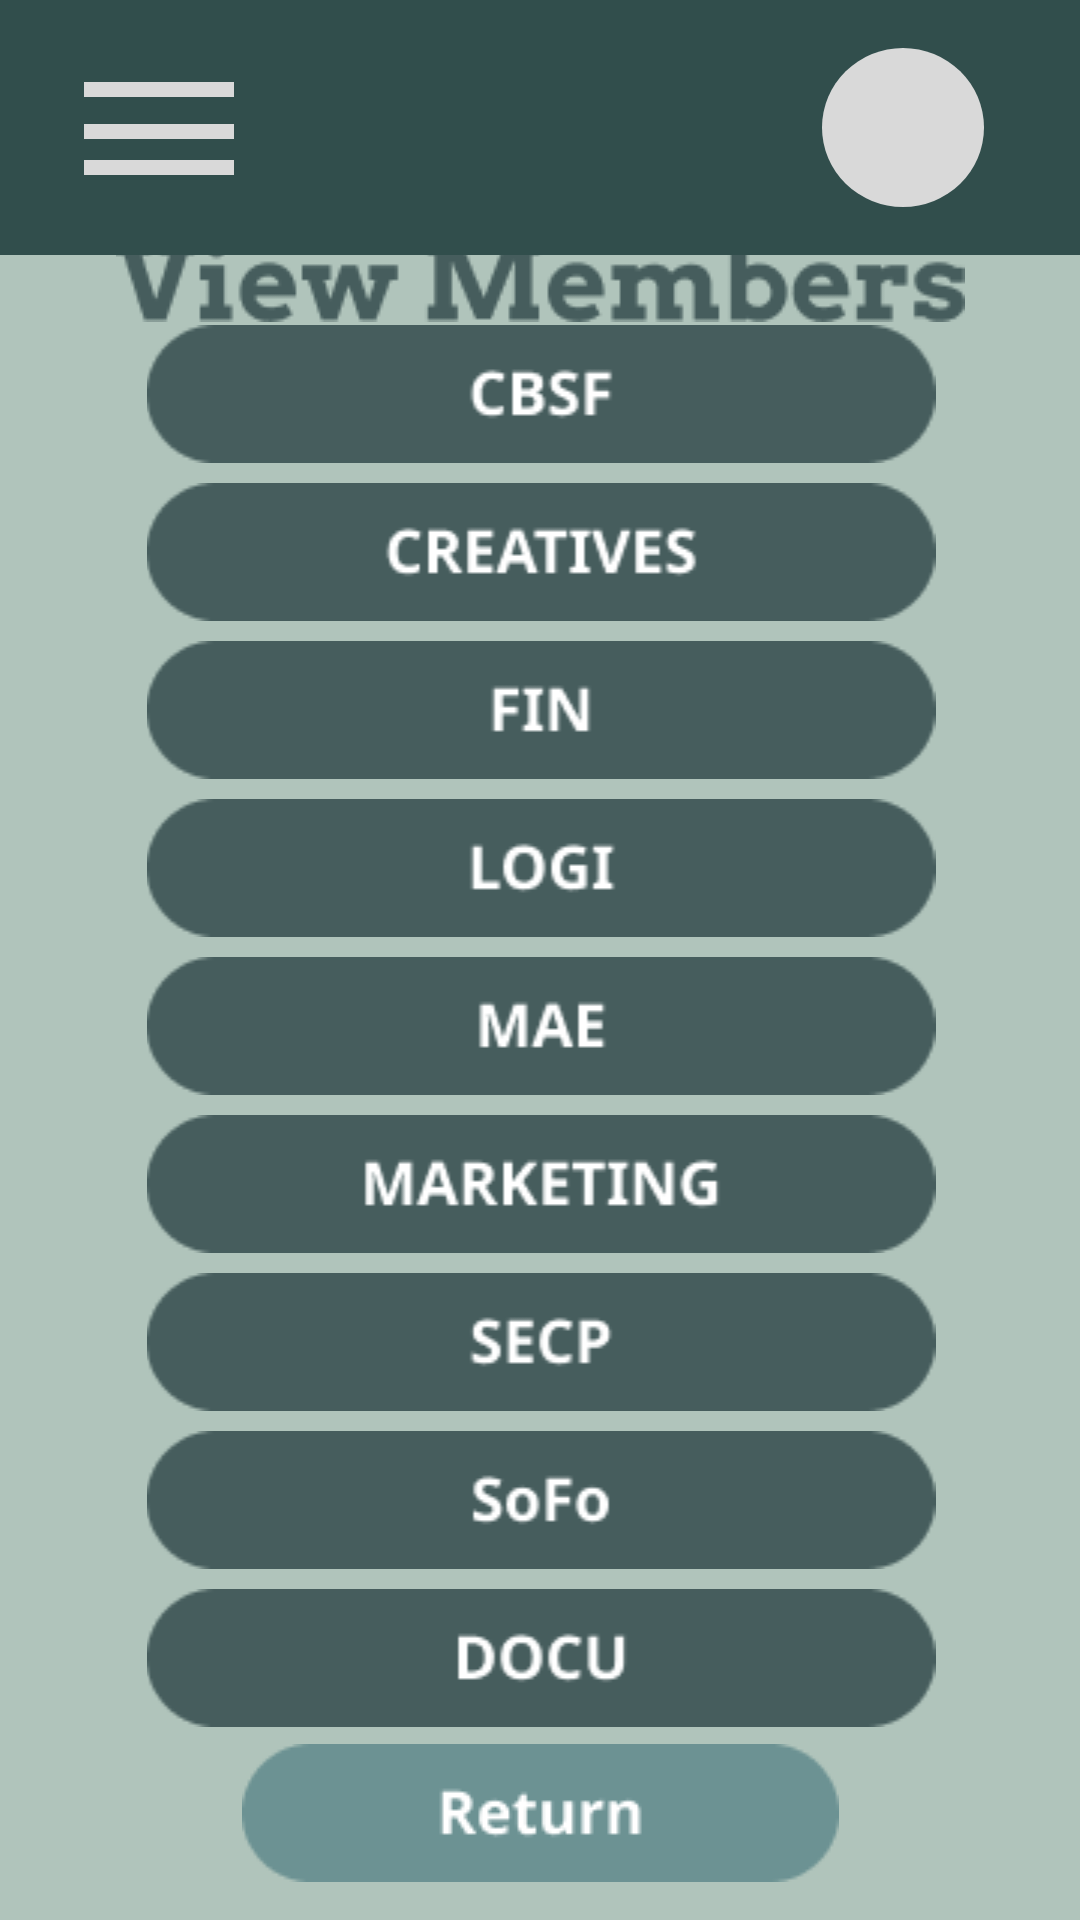

Screen size 1080w x 1920h. Icon name, then its center in pixels as (x,y):
menubtn: (159,128)
